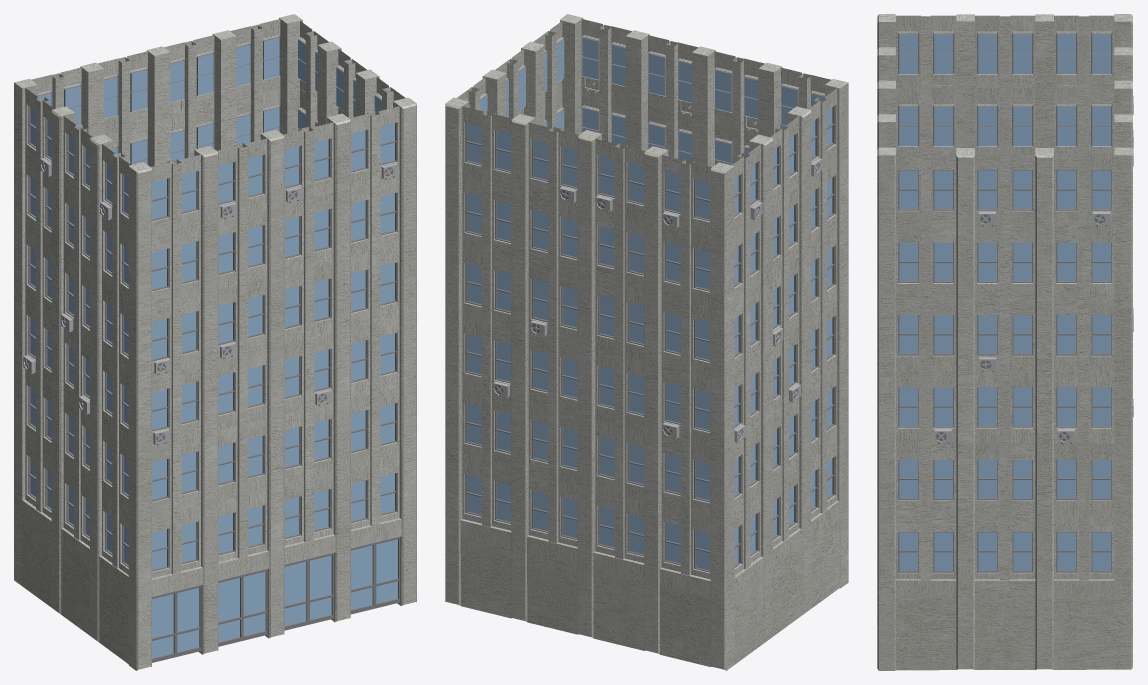
Rendered from cityscene2_02.gltf.
3 renders of one model, left to right at view 1: azimuth 30°, elevation 25°; view 2: azimuth 150°, elevation 25°; view 3: azimuth 270°, elevation 25°, orthographic. The views are drawn at different scales.
Visible parts, largest first — view 1: cityscene2_02; view 2: cityscene2_02; view 3: cityscene2_02.
Boxes of the visible parts, x1,y1,x2,y2 form: cityscene2_02: (14,14,416,670); cityscene2_02: (445,14,848,670); cityscene2_02: (877,14,1133,670).
Size of the model in its own units: 7.73 by 13.03 by 5.87.
Materials: 4 (1 with a texture image).
